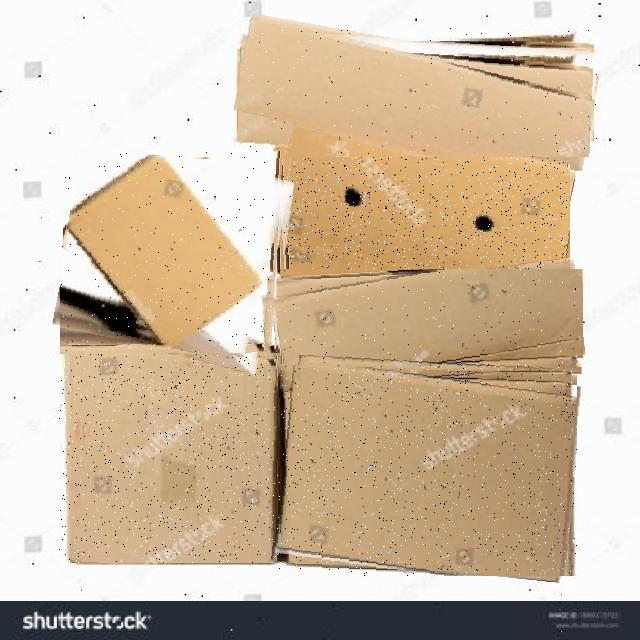BoxFace: (278, 364, 577, 576), (275, 127, 570, 291), (58, 346, 279, 563), (237, 28, 597, 157), (60, 151, 283, 354), (272, 269, 583, 383)
